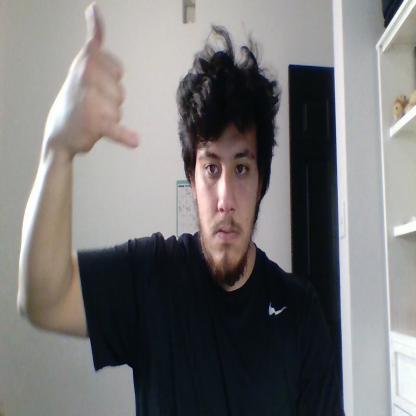Y: (69, 2, 138, 152)
